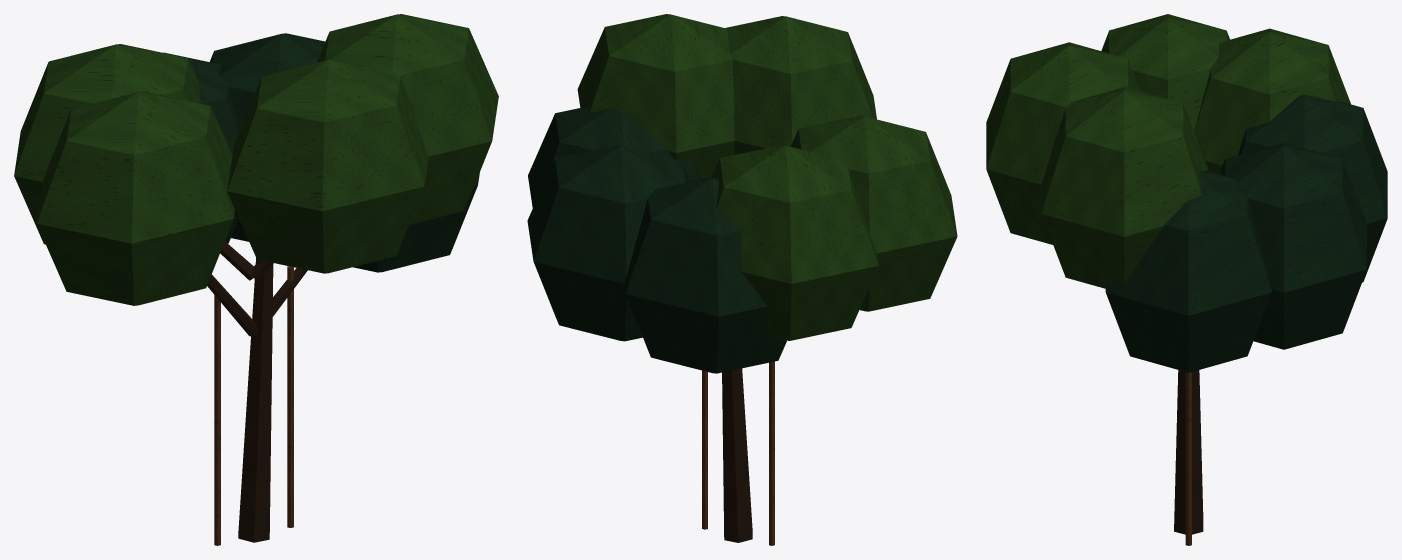
File: PROP-5451E45E3B44_lod2.glb
The picture shows the model from 3 angles, left to right: view 1: azimuth 30°, elevation 25°; view 2: azimuth 150°, elevation 25°; view 3: azimuth 270°, elevation 25°; orthographic projection. The views are drawn at different scales.
Visible parts, largest first — view 1: leaf_crown.017, leaf_crown.016, trunk.030, support_stake.002, branch.012; view 2: leaf_crown.017, leaf_crown.016, trunk.030, support_stake.002; view 3: leaf_crown.017, leaf_crown.016, trunk.030, support_stake.002.
Boxes of the visible parts, x1=… form: leaf_crown.017: x1=14, y1=14, x2=498, y2=305; leaf_crown.016: x1=163, y1=33, x2=479, y2=272; trunk.030: x1=238, y1=258, x2=273, y2=542; support_stake.002: x1=214, y1=266, x2=293, y2=545; branch.012: x1=207, y1=210, x2=307, y2=336; leaf_crown.017: x1=577, y1=14, x2=957, y2=340; leaf_crown.016: x1=527, y1=107, x2=786, y2=373; trunk.030: x1=722, y1=368, x2=752, y2=542; support_stake.002: x1=702, y1=361, x2=774, y2=545; leaf_crown.017: x1=986, y1=14, x2=1350, y2=288; leaf_crown.016: x1=1105, y1=94, x2=1387, y2=372; trunk.030: x1=1174, y1=370, x2=1203, y2=534; support_stake.002: x1=1185, y1=372, x2=1191, y2=545.
Size of the model in its own units: 3.52 by 3.81 by 2.85.
4 materials, 4 textured.
